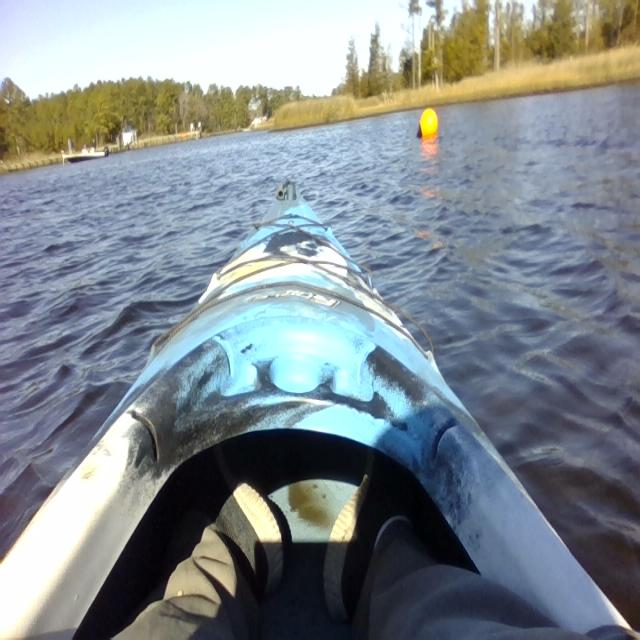Buoy: (415, 104, 440, 146)
